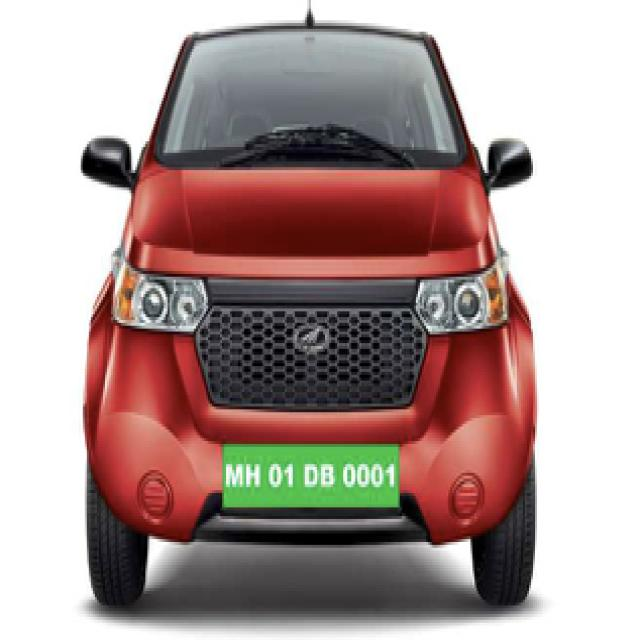license_plate: (218, 453, 404, 493)
